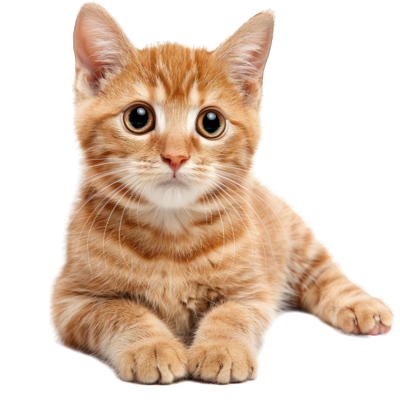Cat: (51, 2, 396, 397)
